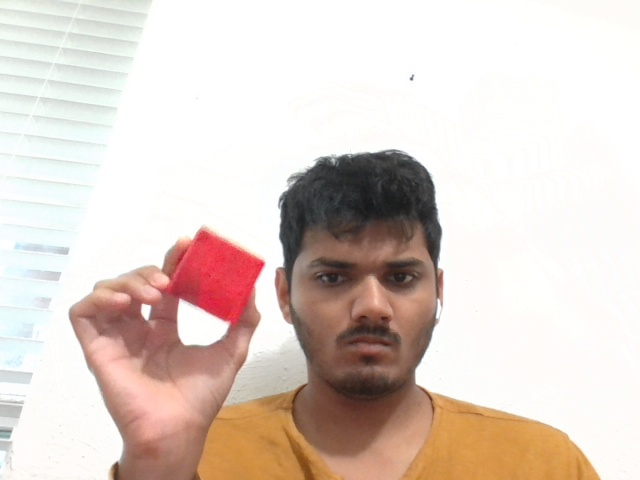RedBlock: (169, 224, 265, 325)
